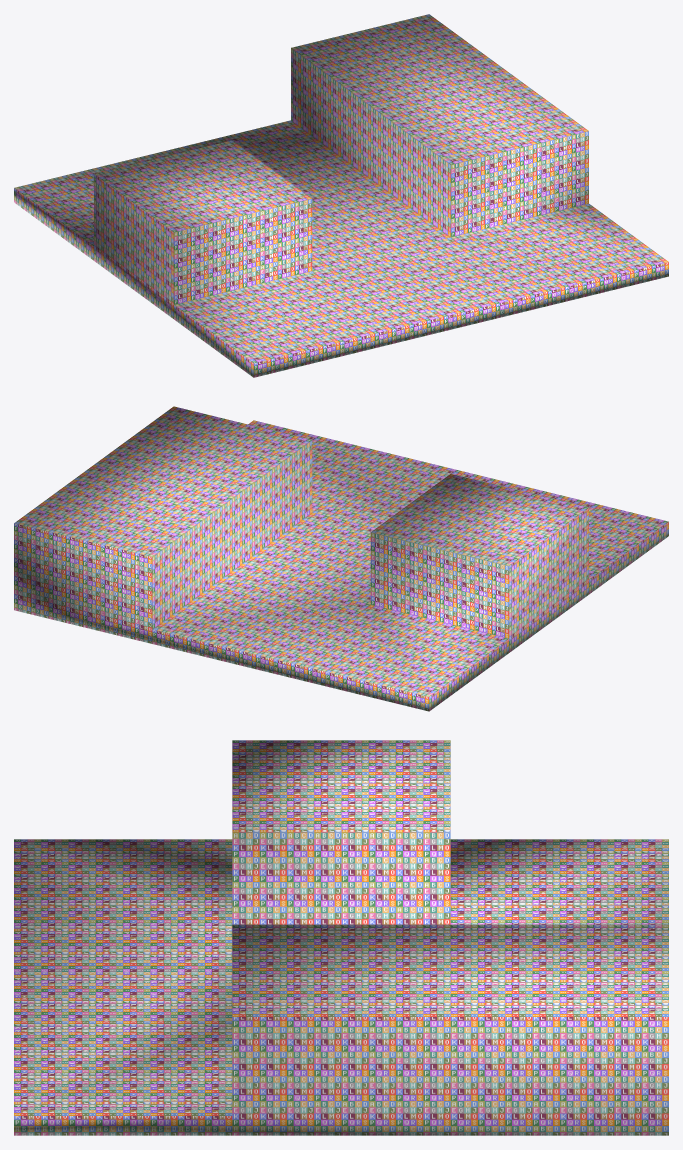
File: Building_Workshop.obj
3 renders of one model, top to bottom at view 1: azimuth 30°, elevation 25°; view 2: azimuth 150°, elevation 25°; view 3: azimuth 270°, elevation 25°, orthographic. The views are drawn at different scales.
Parts seen in each view (by area): view 1: cube1; view 2: cube1; view 3: cube1.
Boxes of the visible parts, x1,y1,x2,y2 form: cube1: [14, 14, 668, 377]; cube1: [14, 406, 668, 711]; cube1: [14, 740, 668, 1135].
Bounding box in the file's own units: 3 × 0.6 × 3.
1 material, 1 textured.
